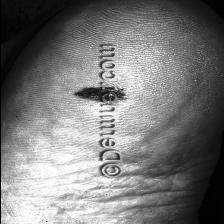Potentially Malignant Skin Tumors: (76, 86, 124, 101)
